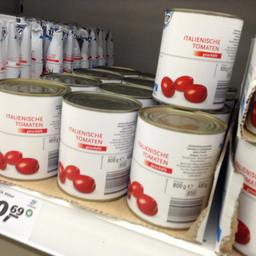tomato_sauce: (124, 102, 226, 228), (148, 4, 244, 108), (55, 88, 142, 201), (0, 76, 67, 180)
